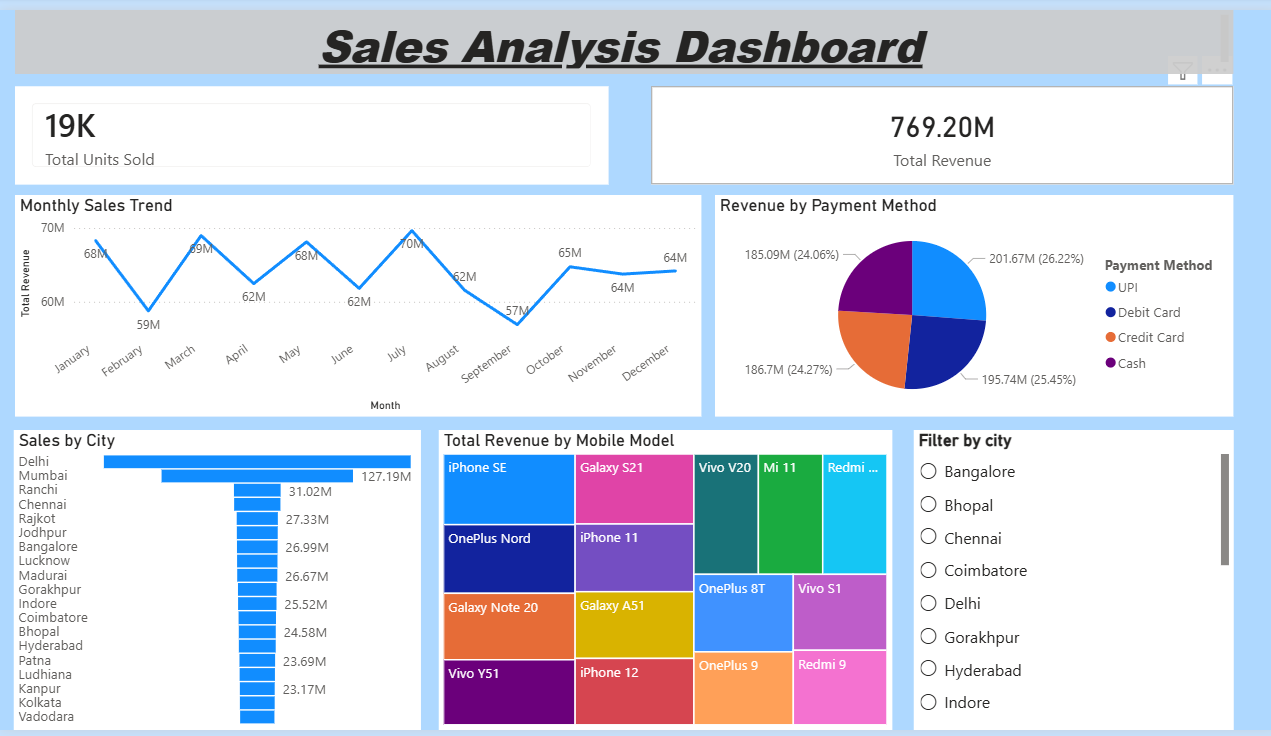

Layout of this report page (visuals, bound fields, positions):
{"tool":"powerbi","page":{"name":"Page 1","canvas":[1280,720],"ordinal":0},"visuals":[{"type":"card","fields":{"Values":["Sheet1.Total_Revenue"]},"box":[651.2,76.2,582.5,98.8],"z":0},{"type":"lineChart","title":"Monthly Sales Trend","fields":{"Category":["Sheet1.Date.Variation.Date Hierarchy.Month"],"Y":["Sheet1.Total Revenue"]},"box":[15,185,686.7,221.7],"z":1000},{"type":"funnel","title":"Sales by City","fields":{"Category":["Sheet1.City"],"Y":["Sheet1.Total Revenue"]},"box":[14.3,420,407.1,300],"z":2000},{"type":"pieChart","title":"Revenue by Payment Method","fields":{"Category":["Sheet1.Payment Method"],"Y":["Sheet1.Total Revenue"]},"box":[715,185,518.8,221.2],"z":3000},{"type":"treemap","fields":{"Group":["Sheet1.Mobile Model"],"Values":["Sheet1.Total Revenue"]},"box":[438.3,420,453.3,300],"z":4000},{"type":"listSlicer","title":"Filter by city","fields":{"Values":["Sheet1.City"]},"box":[913.8,420,320,300],"z":5000},{"type":"cardVisual","fields":{"Data":["Sum(Sheet1.Total Units Sold)"]},"box":[15,76.7,593.3,98.3],"z":6000},{"type":"textbox","box":[15,0,1218.8,63.8],"z":7000}]}

Visuals, with their boxes in screenshot pixels (x1, y1, x2, y2), scaled from the page's 1280x720 canvas onto the 1271x736 screenshot:
card - Sheet1.Total_Revenue: rect(647, 78, 1225, 179)
"Monthly Sales Trend" lineChart: rect(15, 189, 697, 416)
"Sales by City" funnel: rect(14, 429, 418, 735)
"Revenue by Payment Method" pieChart: rect(710, 189, 1225, 415)
treemap - Sheet1.Mobile Model x Sheet1.Total Revenue: rect(435, 429, 885, 735)
"Filter by city" listSlicer: rect(907, 429, 1225, 735)
cardVisual - Sum(Sheet1.Total Units Sold): rect(15, 78, 604, 179)
textbox: rect(15, 0, 1225, 65)
